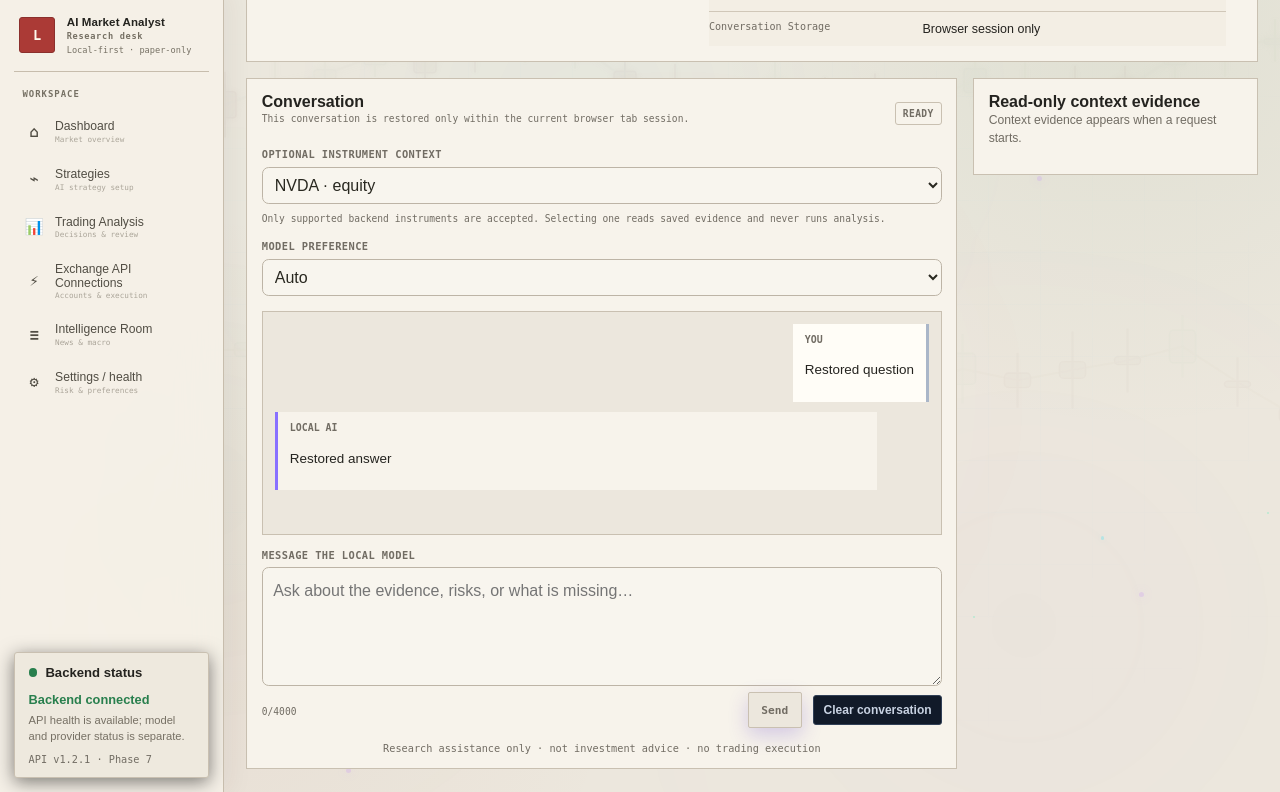
Test: QwenConsultPage › restores and explicitly clears browser-session messages
(page scrolled)
Expected: the text "Restored answer" is shown, [290,451,391,466]
Click the button "Clear conversation" at (878, 710), box [813,695,942,725]
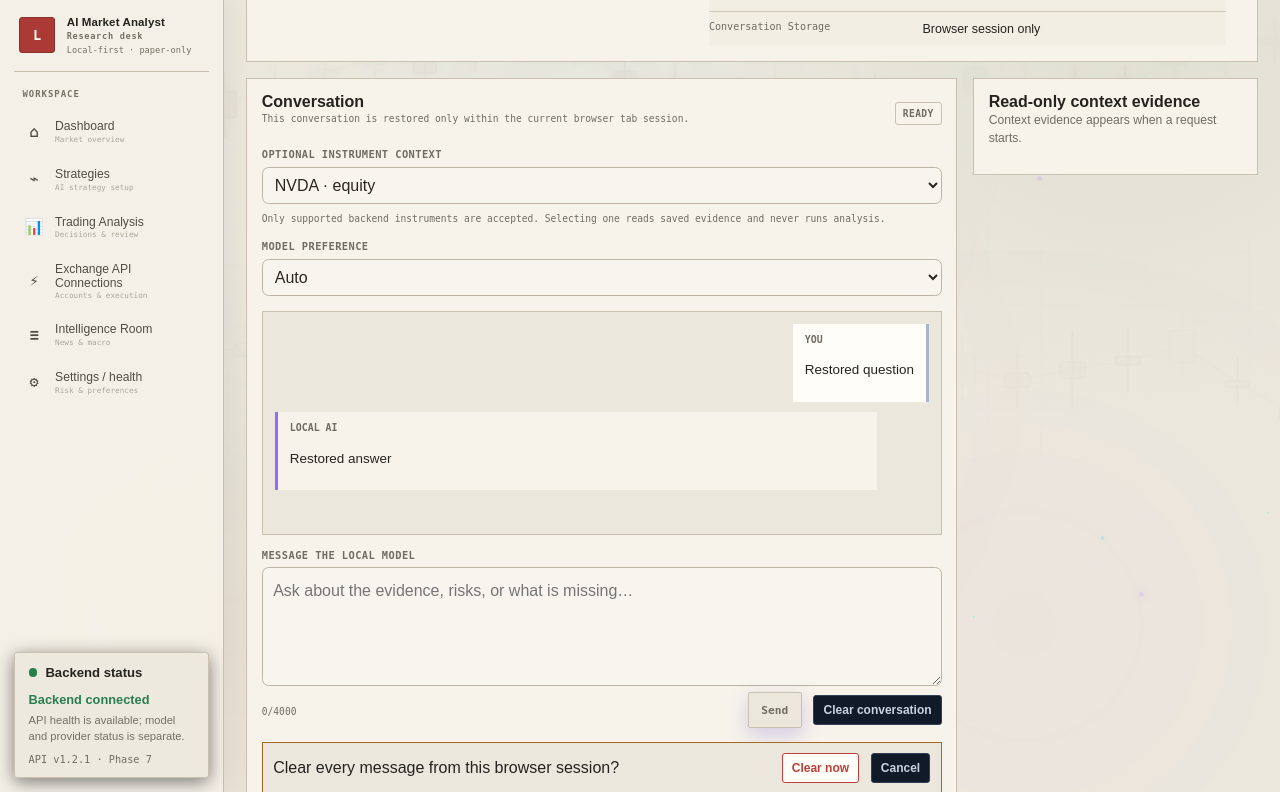
Click the button "Clear now" at (820, 768), box [782,753,859,783]
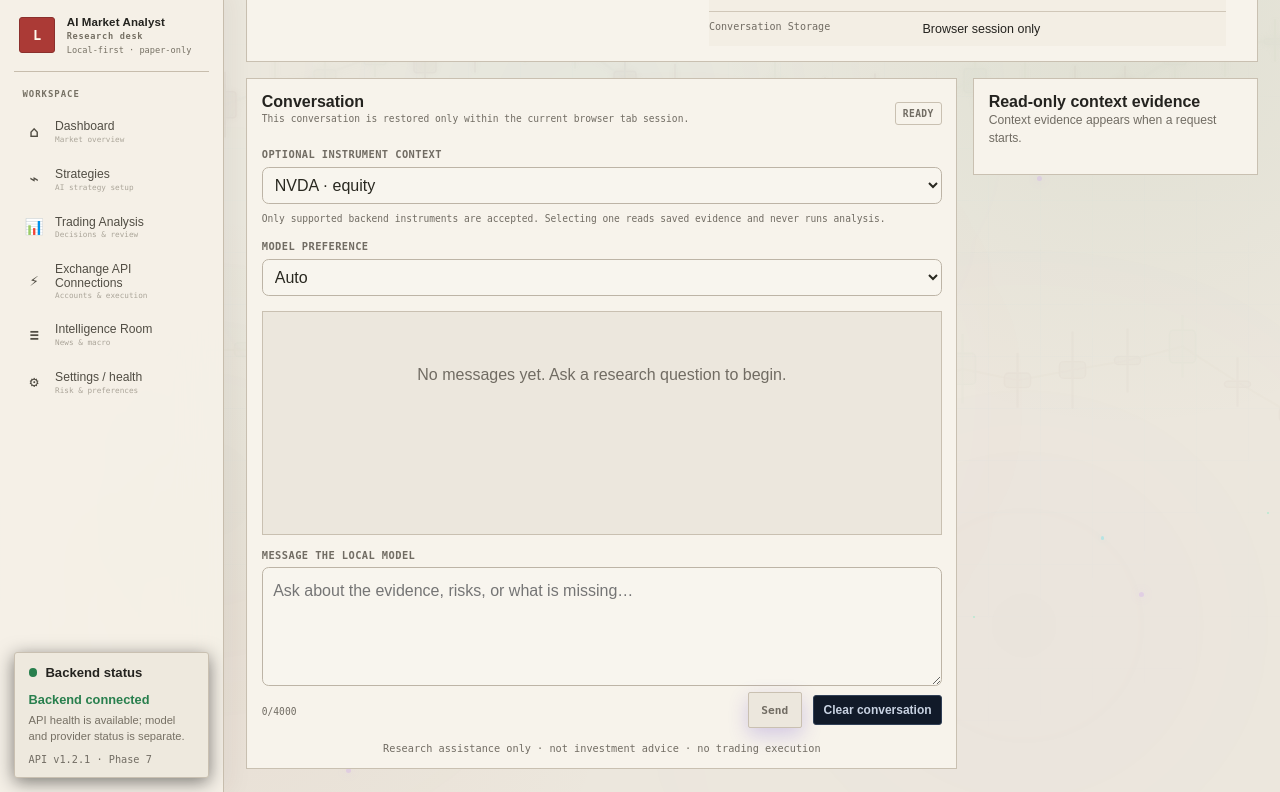
Now the text "Restored answer" is gone
Now the text "No messages yet. Ask a research question to begin." is shown, box [417,366,786,383]
